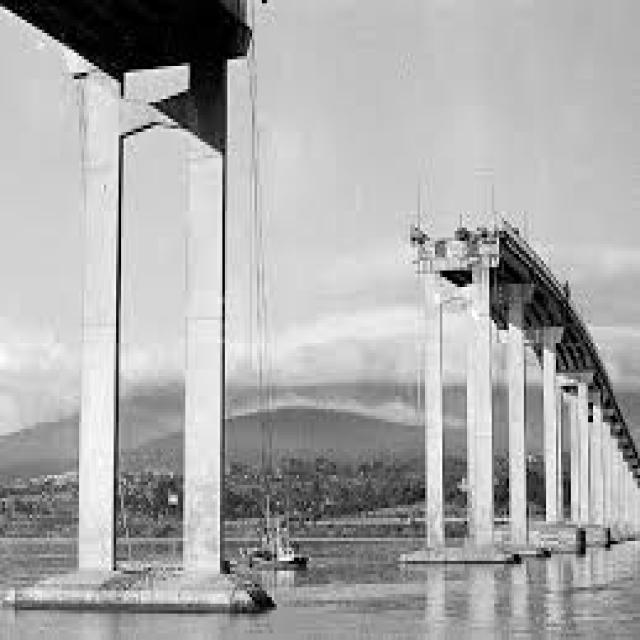bridge collapse: (115, 4, 574, 640)
